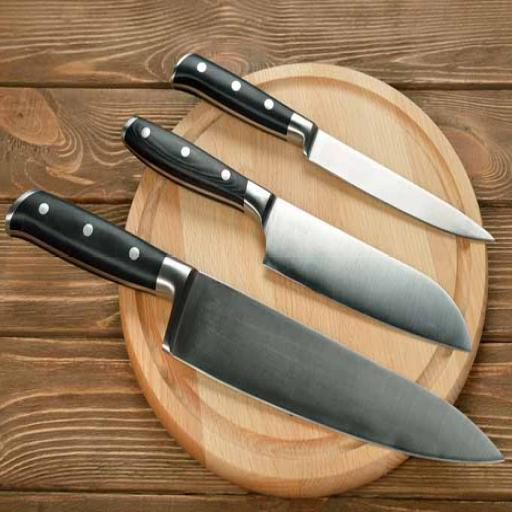knife: (6, 183, 503, 480)
